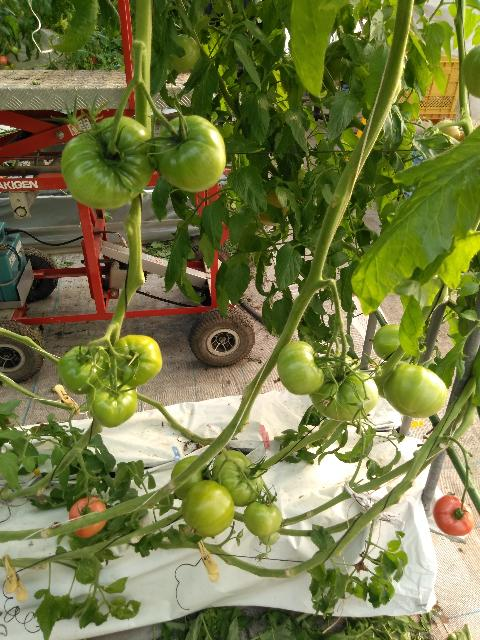b_fully_ripened: (432, 495, 474, 536)
b_green: (61, 116, 156, 208), (155, 115, 226, 193), (308, 353, 378, 421), (382, 363, 447, 418), (181, 480, 235, 538), (212, 450, 264, 508), (109, 334, 163, 387), (277, 340, 324, 396), (87, 377, 138, 428), (58, 346, 111, 395), (170, 455, 210, 500), (373, 325, 410, 362), (243, 502, 281, 537), (170, 34, 201, 73), (374, 361, 406, 398), (461, 44, 479, 99), (258, 530, 279, 545)
b_half_ripened: (69, 496, 107, 538)
